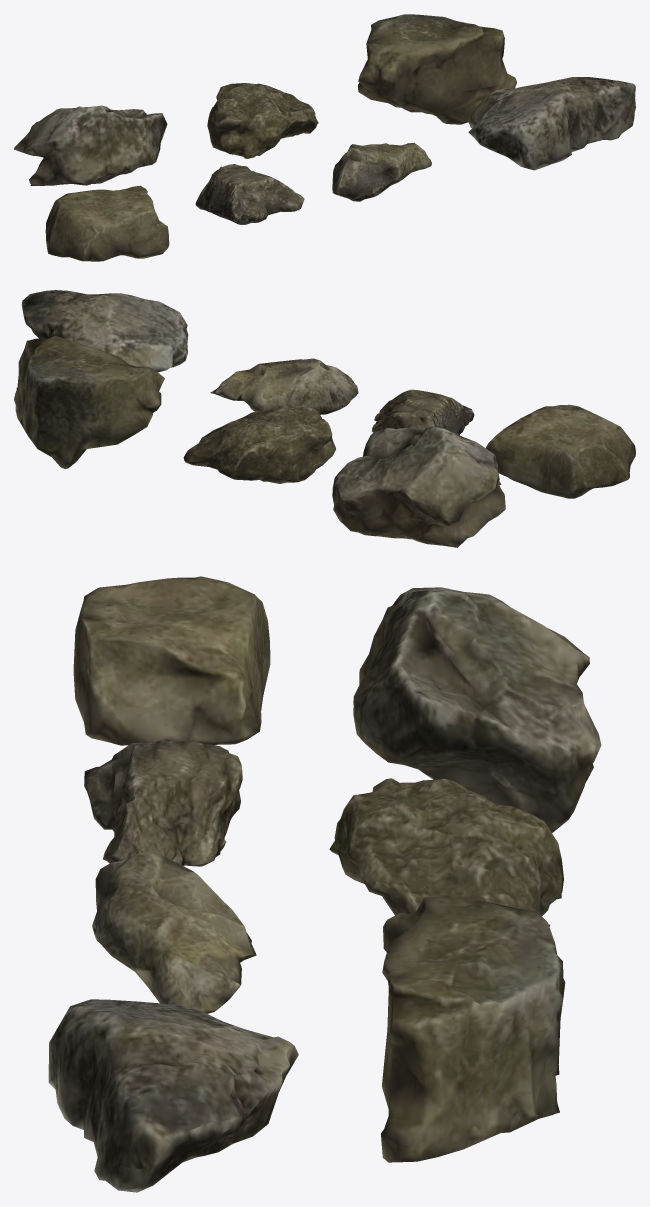
Rendered from rock_moss_set_02.glb.
The picture shows the model from 3 angles, top to bottom: view 1: azimuth 30°, elevation 25°; view 2: azimuth 150°, elevation 25°; view 3: azimuth 270°, elevation 25°; orthographic projection. The views are drawn at different scales.
Parts seen in each view (by area): view 1: rock_moss_set_02_rock13, rock_moss_set_02_rock10, rock_moss_set_02_rock11, rock_moss_set_02_rock07, rock_moss_set_02_rock12, rock_moss_set_02_rock08, rock_moss_set_02_rock09; view 2: rock_moss_set_02_rock11, rock_moss_set_02_rock13, rock_moss_set_02_rock07, rock_moss_set_02_rock10, rock_moss_set_02_rock12, rock_moss_set_02_rock09, rock_moss_set_02_rock08; view 3: rock_moss_set_02_rock11, rock_moss_set_02_rock13, rock_moss_set_02_rock10, rock_moss_set_02_rock07, rock_moss_set_02_rock12, rock_moss_set_02_rock09, rock_moss_set_02_rock08.
Part boxes in pixels (x1,y1,x2,y2): rock_moss_set_02_rock13: (358, 14, 516, 124); rock_moss_set_02_rock10: (468, 77, 635, 170); rock_moss_set_02_rock11: (14, 105, 167, 185); rock_moss_set_02_rock07: (45, 185, 169, 261); rock_moss_set_02_rock12: (207, 83, 318, 158); rock_moss_set_02_rock08: (195, 164, 304, 224); rock_moss_set_02_rock09: (332, 142, 431, 201); rock_moss_set_02_rock11: (332, 426, 505, 547); rock_moss_set_02_rock13: (14, 336, 164, 469); rock_moss_set_02_rock07: (486, 404, 635, 498); rock_moss_set_02_rock10: (21, 290, 188, 372); rock_moss_set_02_rock12: (183, 405, 335, 483); rock_moss_set_02_rock09: (210, 358, 358, 414); rock_moss_set_02_rock08: (372, 389, 474, 434); rock_moss_set_02_rock11: (353, 587, 601, 832); rock_moss_set_02_rock13: (381, 894, 565, 1162); rock_moss_set_02_rock10: (48, 999, 298, 1192); rock_moss_set_02_rock07: (73, 576, 270, 745); rock_moss_set_02_rock12: (329, 778, 563, 926); rock_moss_set_02_rock09: (92, 851, 256, 1013); rock_moss_set_02_rock08: (84, 740, 242, 866).
Size of the model in its own units: 8.28 by 1.36 by 3.4.
Materials: 1 (1 with a texture image).
